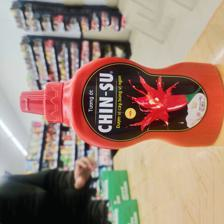Chinsu: (18, 54, 224, 149)
